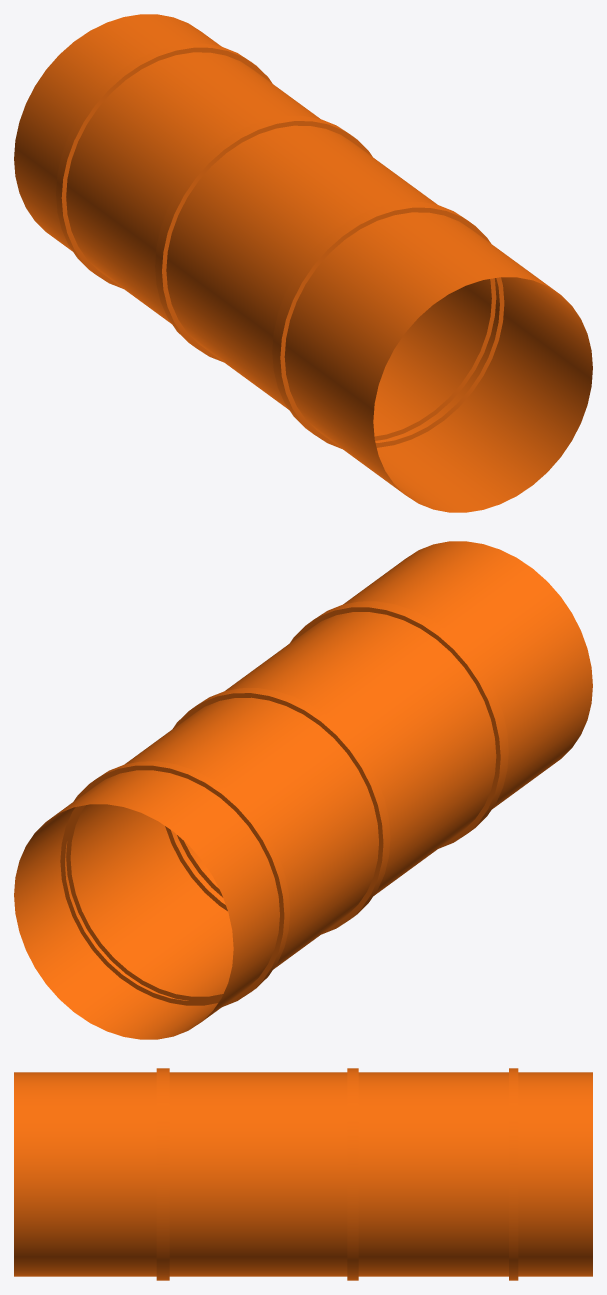
File: arm_01_column.obj
3 renders of one model, top to bottom at view 1: azimuth 30°, elevation 25°; view 2: azimuth 150°, elevation 25°; view 3: azimuth 270°, elevation 25°, orthographic. The views are drawn at different scales.
Parts seen in each view (by area): view 1: arm_01_column; view 2: arm_01_column; view 3: arm_01_column.
Part boxes in pixels (x1,y1,x2,y2): arm_01_column: (14, 14, 592, 512); arm_01_column: (14, 541, 592, 1039); arm_01_column: (14, 1068, 592, 1280).
Bounding box in the file's own units: 208 × 208 × 567.
